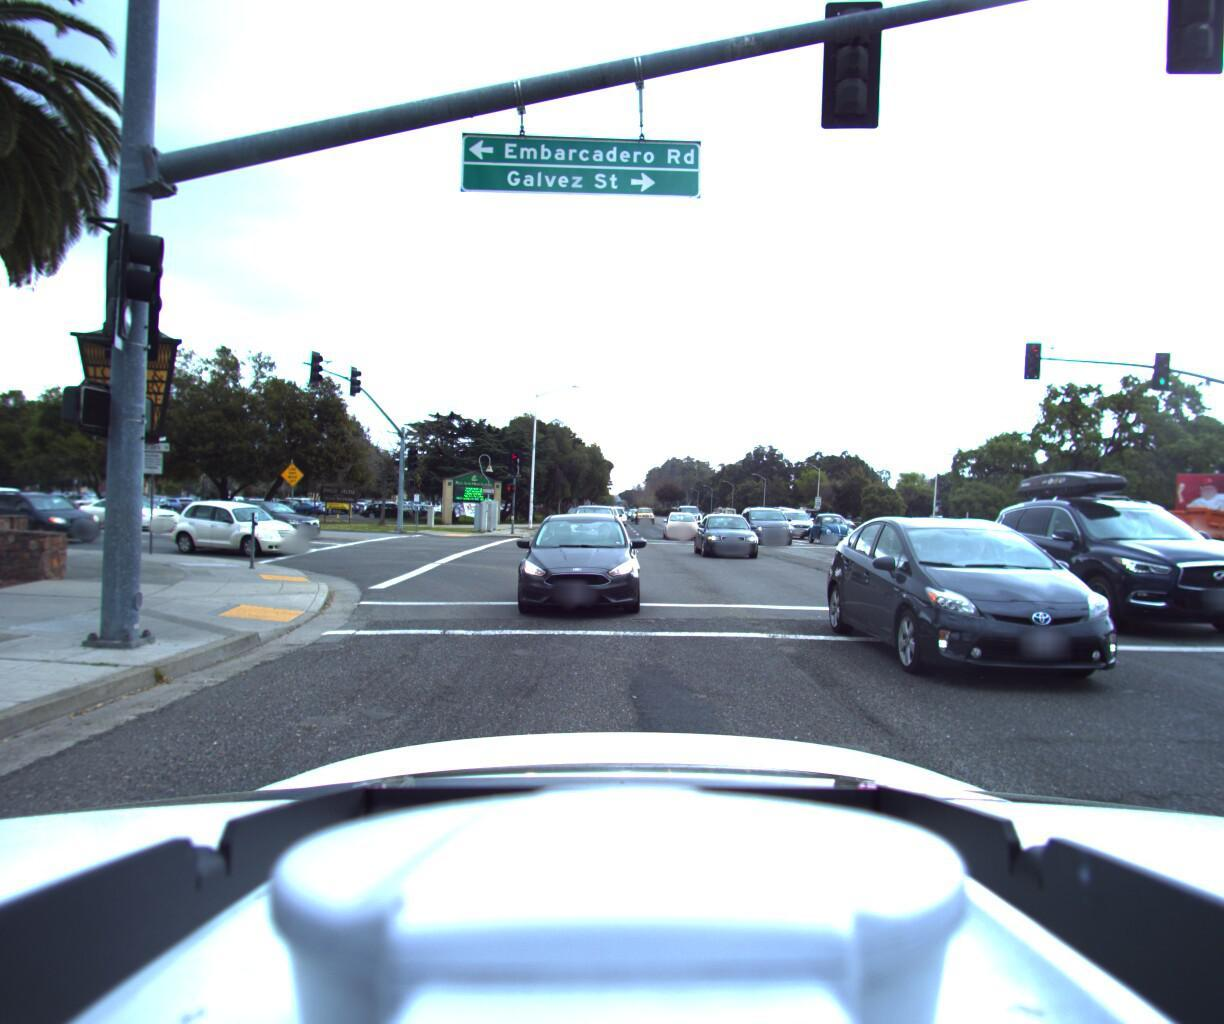car: (832, 513, 1224, 743), (1003, 449, 1224, 675), (507, 511, 642, 626), (166, 500, 317, 562), (0, 491, 109, 550), (207, 498, 331, 543), (71, 496, 192, 536), (692, 513, 767, 566), (0, 486, 61, 531), (738, 506, 800, 550), (569, 507, 623, 552), (801, 511, 859, 547), (768, 510, 820, 542), (660, 513, 703, 544), (585, 503, 624, 538), (635, 506, 658, 525), (610, 506, 632, 525)
truck: (1033, 495, 1224, 578)
